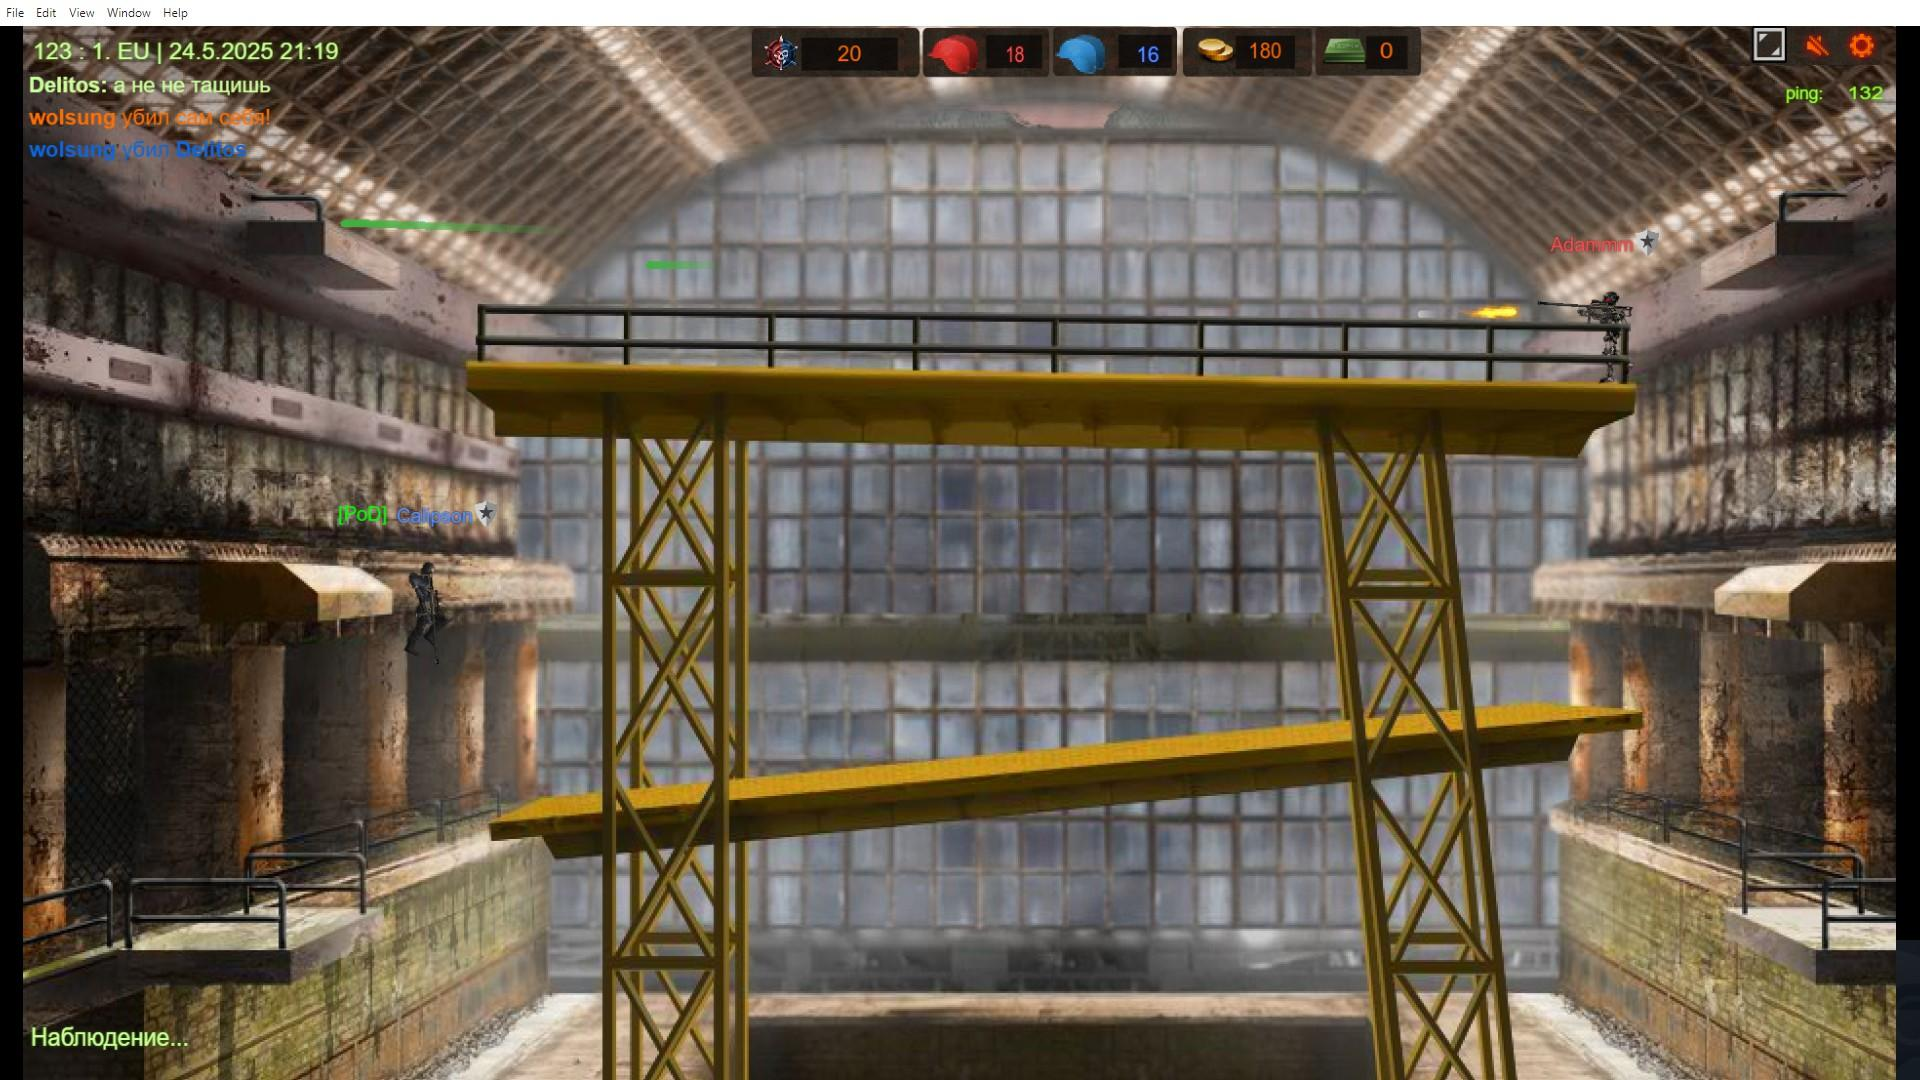enemy: (1594, 290, 1629, 390), (415, 563, 435, 653)
